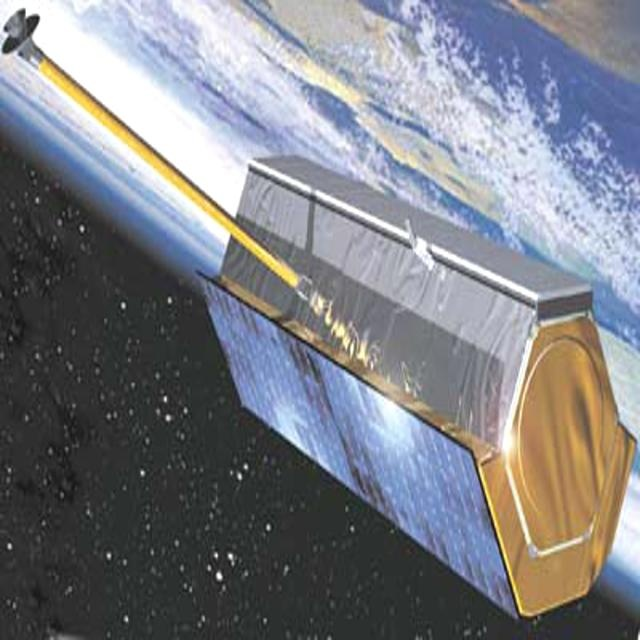medium_debris: (0, 0, 640, 638)
